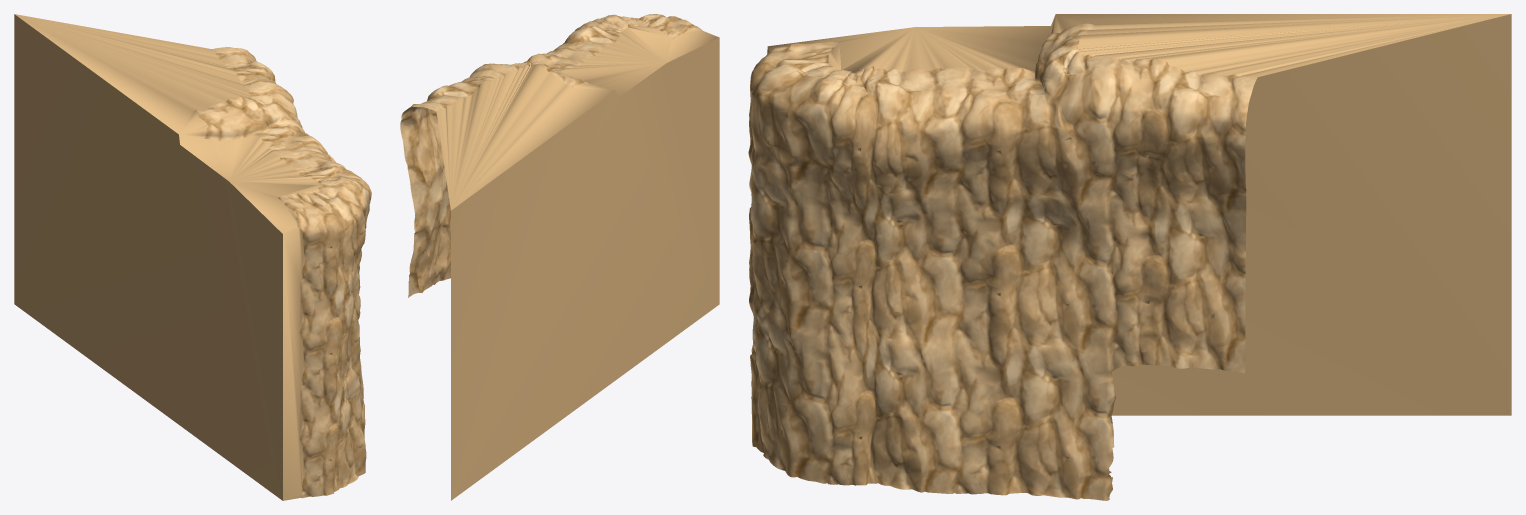
Rendered from SM_ENV_KNFRST_Wall_Ae.FBX.
3 views of the same model, side by side, from view 1: azimuth 30°, elevation 25°; view 2: azimuth 150°, elevation 25°; view 3: azimuth 270°, elevation 25° (orthographic). The views are drawn at different scales.
Parts seen in each view (by area): view 1: SM_ENV_KNFRST_Wall_Ae; view 2: SM_ENV_KNFRST_Wall_Ae; view 3: SM_ENV_KNFRST_Wall_Ae.
Part boxes in pixels (x1,y1,x2,y2): SM_ENV_KNFRST_Wall_Ae: [14, 14, 371, 500]; SM_ENV_KNFRST_Wall_Ae: [400, 14, 719, 500]; SM_ENV_KNFRST_Wall_Ae: [748, 14, 1511, 500].
Size of the model in its own units: 3260 by 6452 by 10557.
